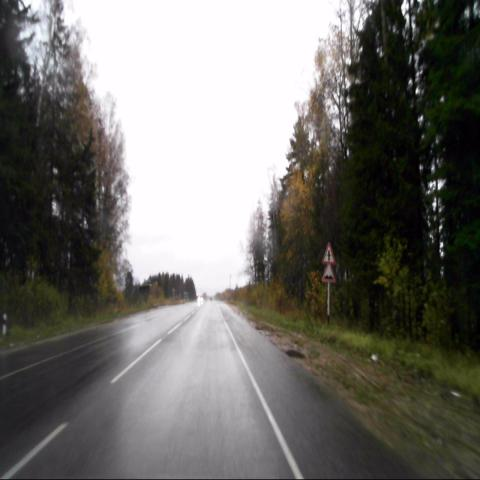1_16: (321, 264, 336, 283)
